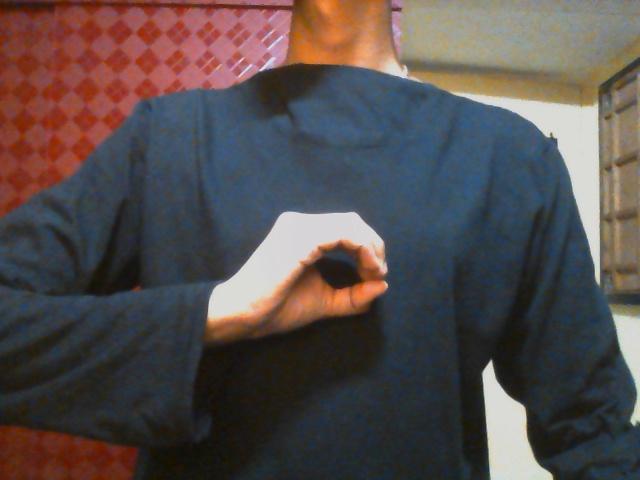O: (220, 206, 394, 347)
